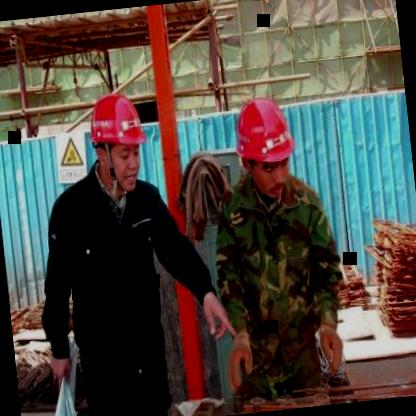helmet: (226, 86, 300, 204), (87, 86, 152, 196)
